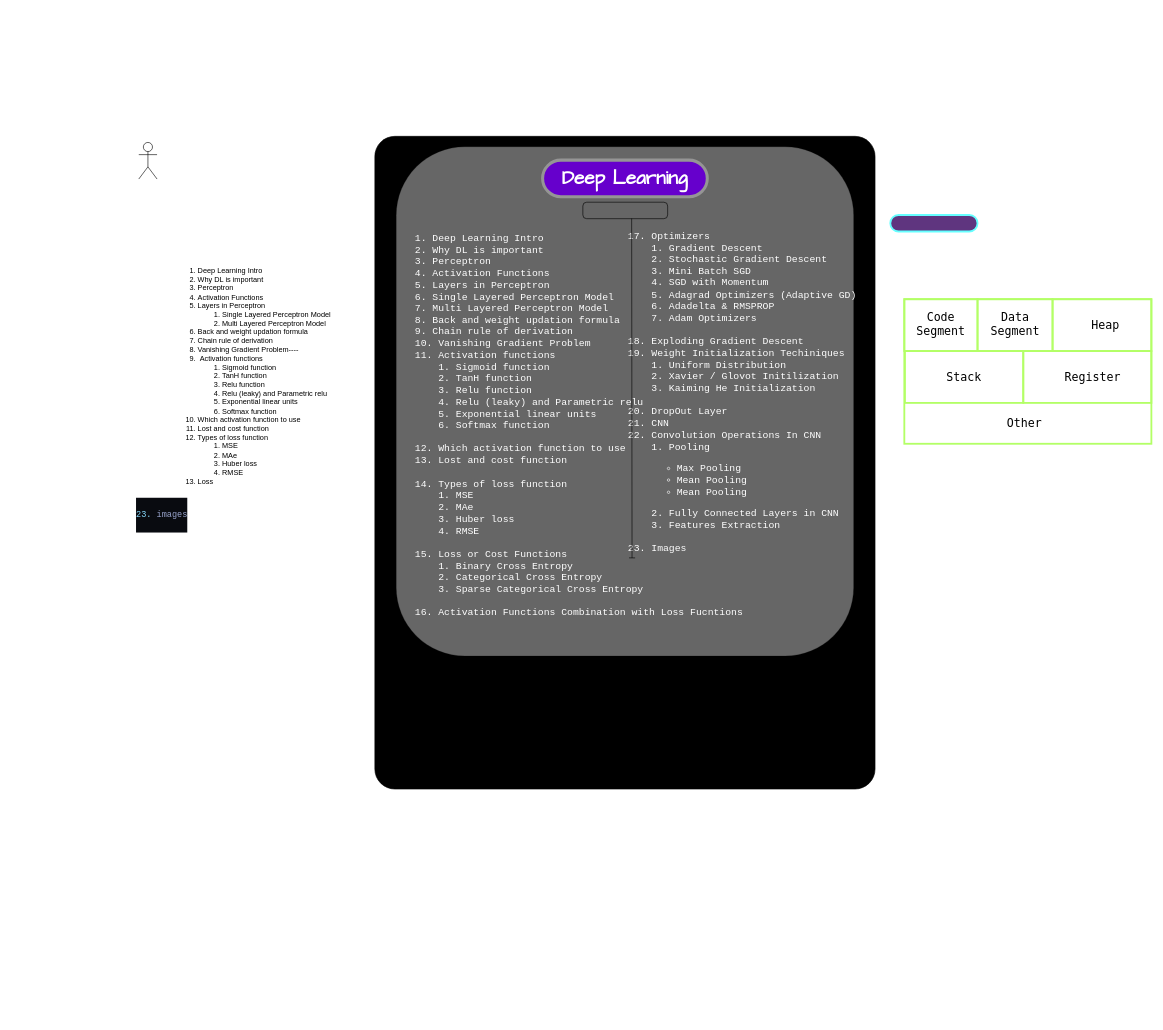
Some shapes in this 1163 by 1030 pixel diagram are drawn without their labels. Each missing label, with the centre of its shape:
"Actor" belongs at pixel 147 160.
"other prop" belongs at pixel 933 223.
"Part A : Theory" belongs at pixel 625 210.
